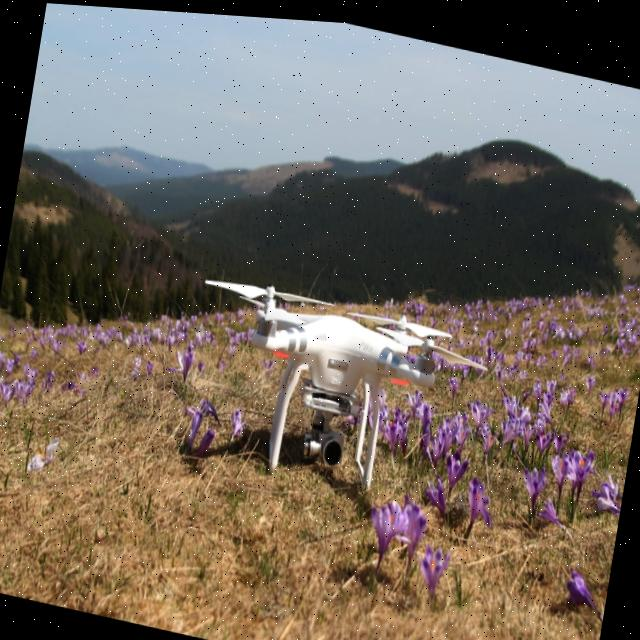drone: (172, 259, 493, 506)
